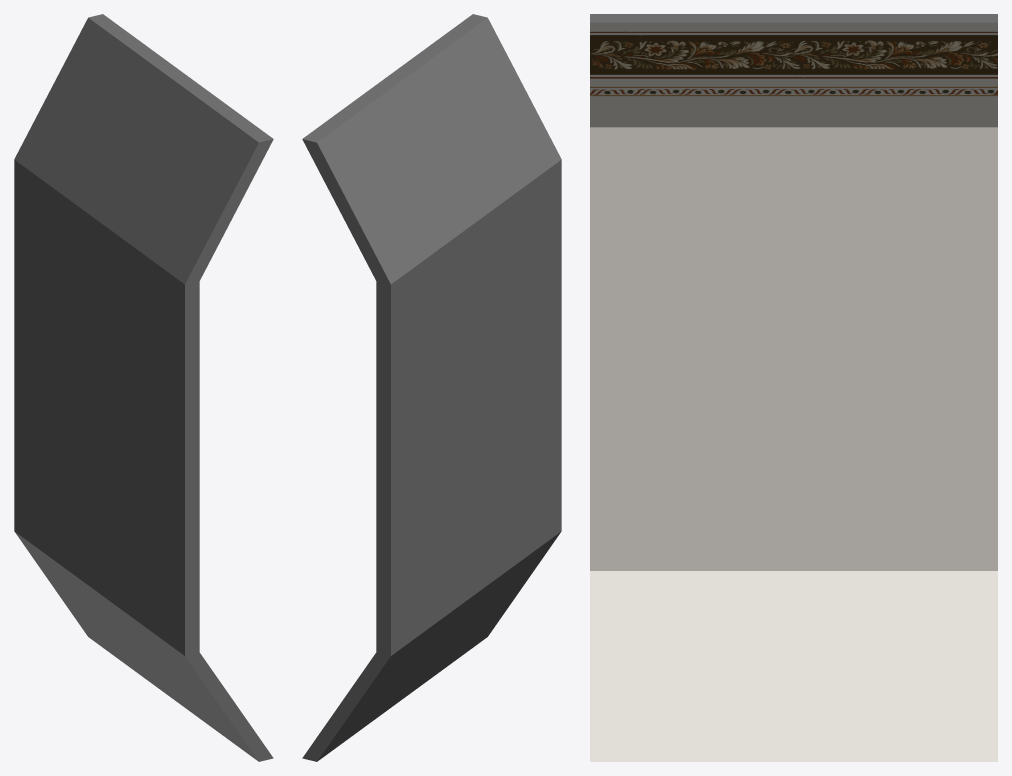
Rendered from ModularMedWall02.fbx.
3 renders of one model, left to right at view 1: azimuth 30°, elevation 25°; view 2: azimuth 150°, elevation 25°; view 3: azimuth 270°, elevation 25°, orthographic. The views are drawn at different scales.
Visible parts, largest first — view 1: Wall 2; view 2: Wall 2; view 3: Wall 2.
Part boxes in pixels (x1,y1,x2,y2): Wall 2: (14,14,273,761); Wall 2: (302,14,561,761); Wall 2: (590,14,997,761).
Bounding box in the file's own units: 0.6 × 4 × 2.
